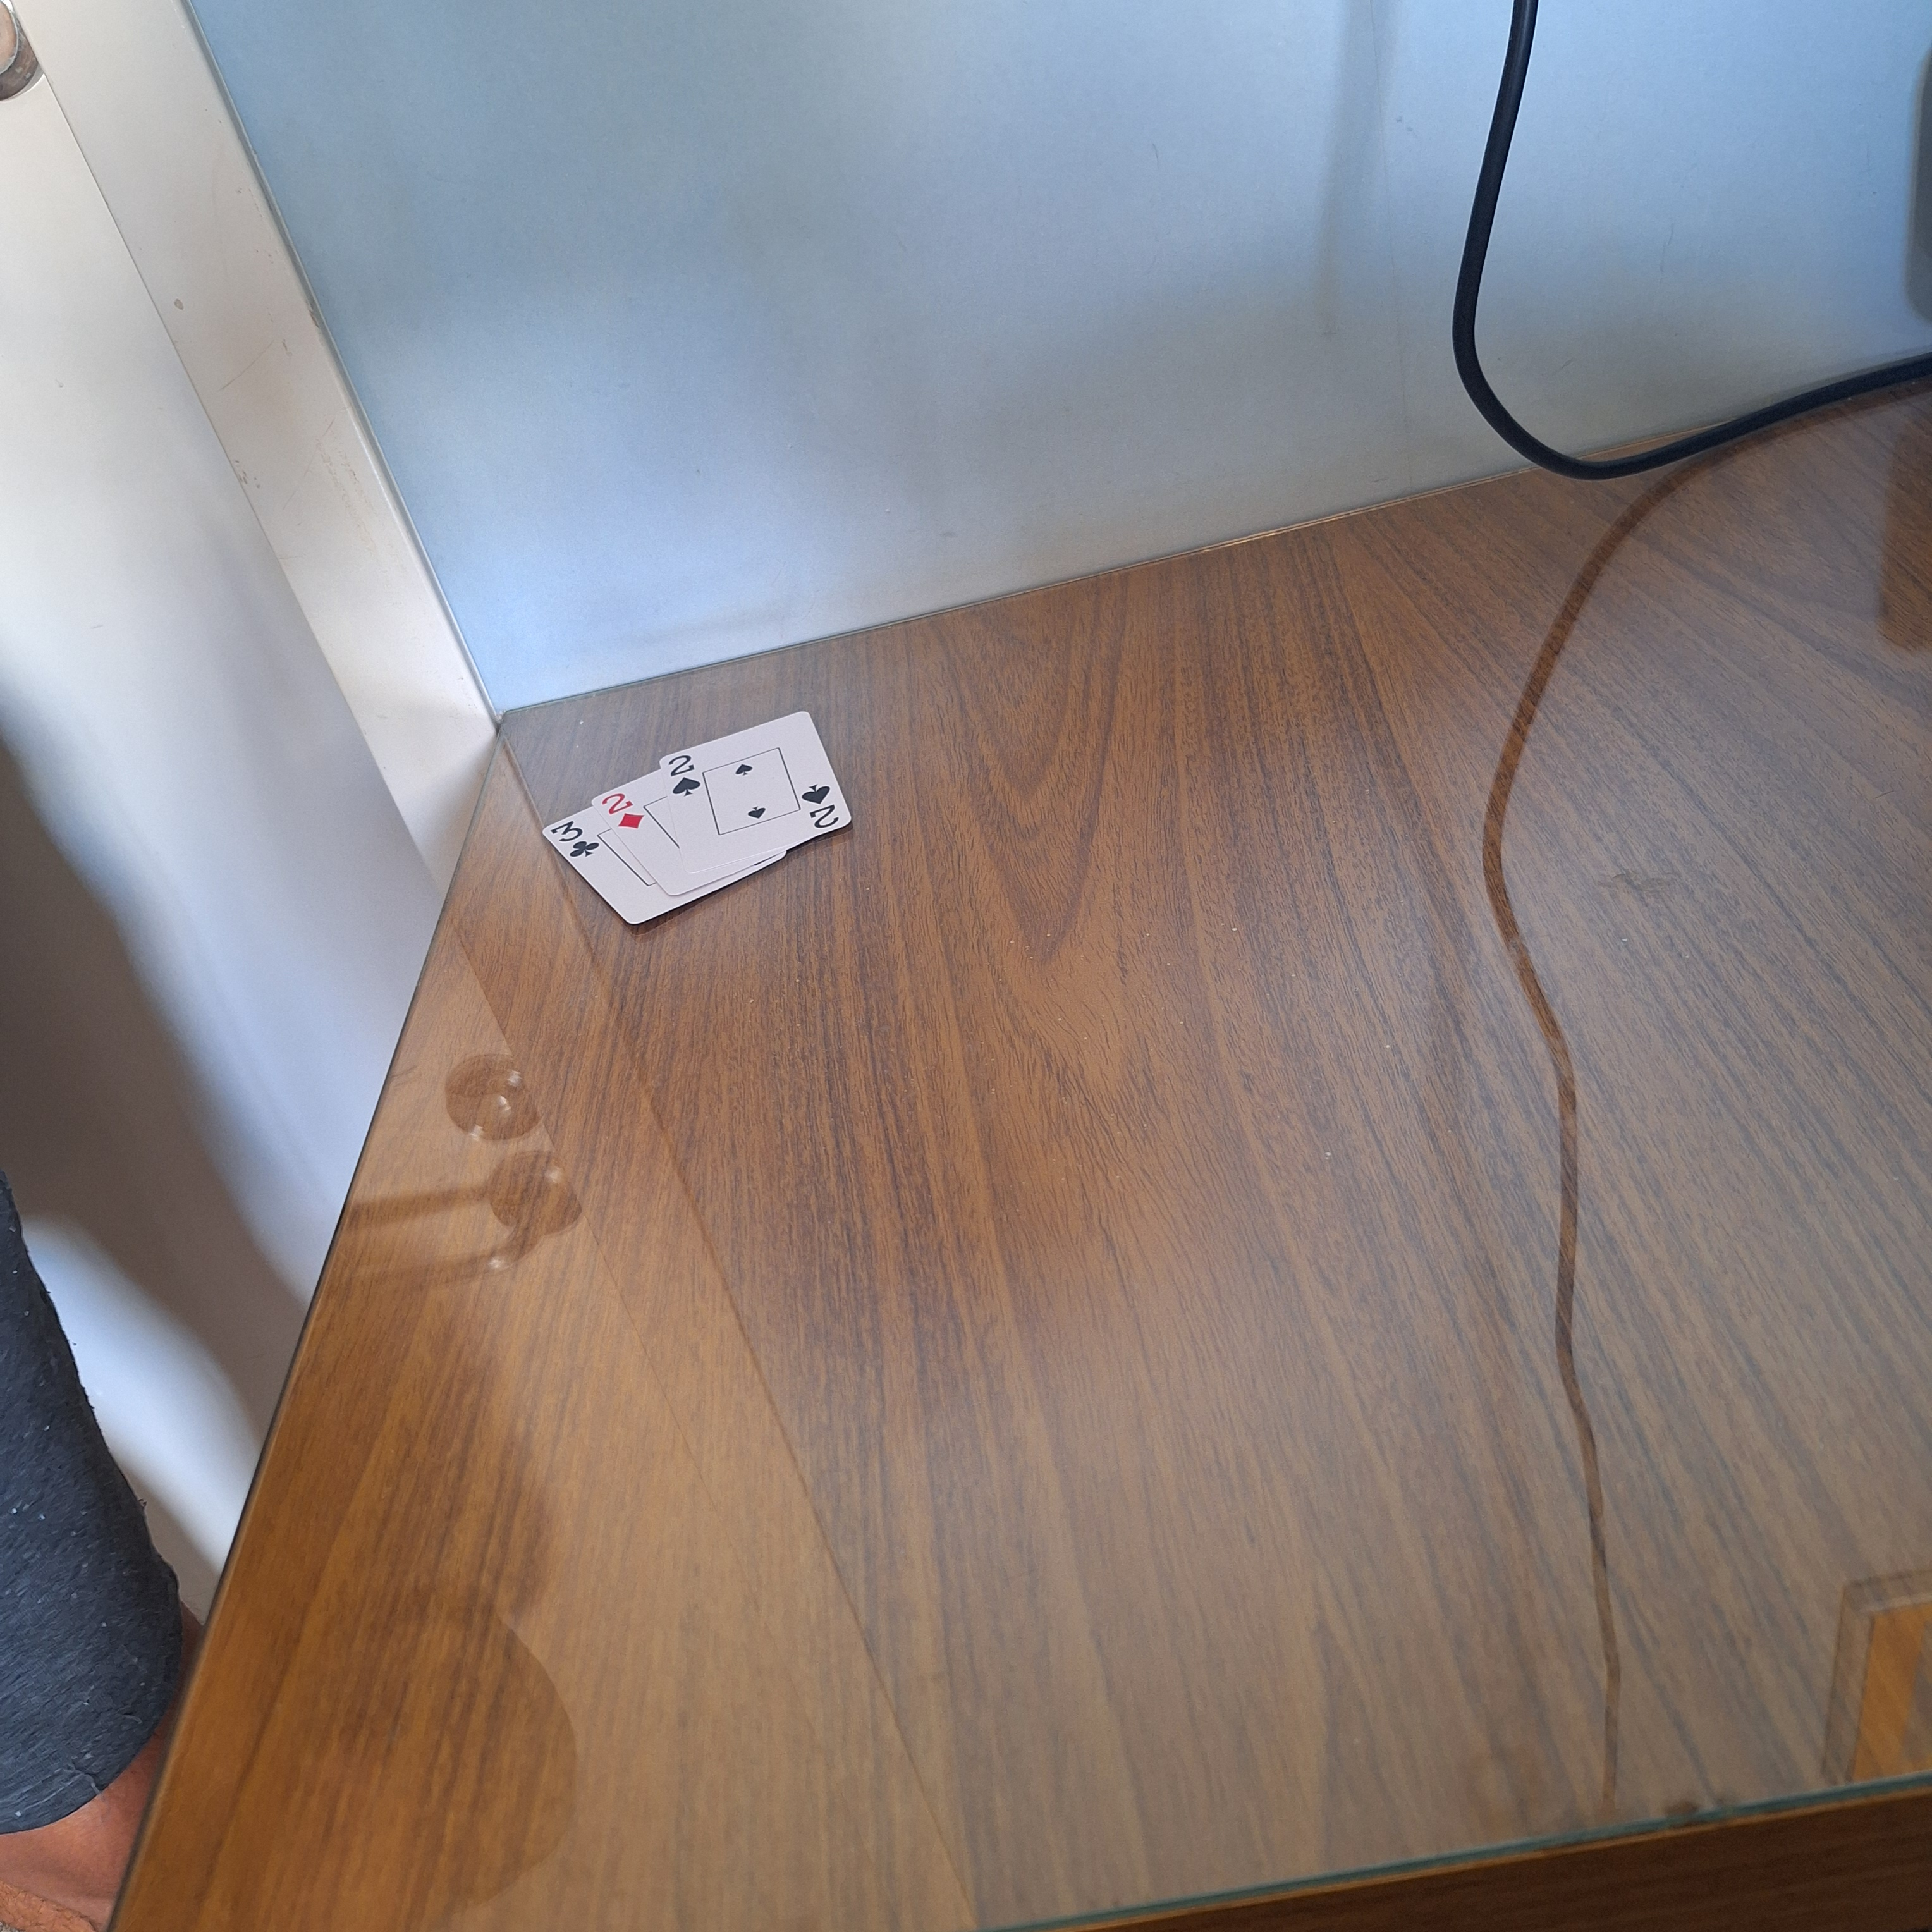2E: (796, 778, 847, 832), (662, 750, 704, 800)
2O: (598, 786, 651, 837)
3P: (548, 814, 600, 865)
